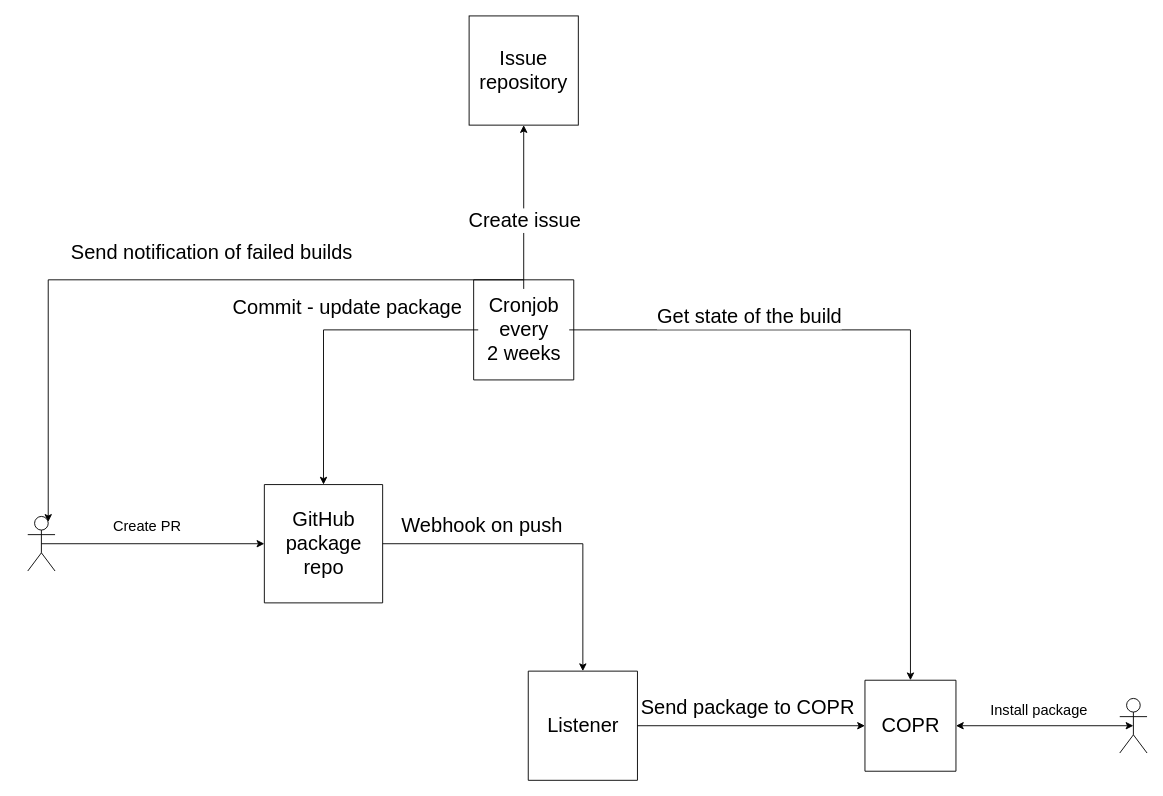
This 1163x796 diagram has some shape labels left out. The shapes that lost their labels are listed below. From the top down, each one's centre as x and y in pixels, then its label:
At point (41, 543): "Maintainer".
At point (1133, 725): "User".
